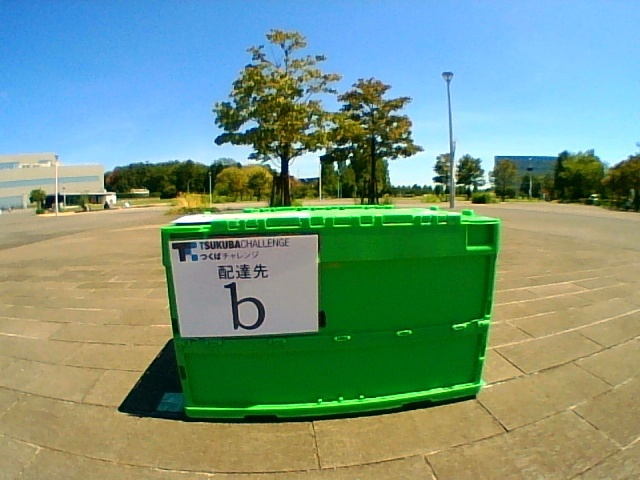green_box: (161, 205, 500, 418)
tag_b: (181, 242, 318, 333)
